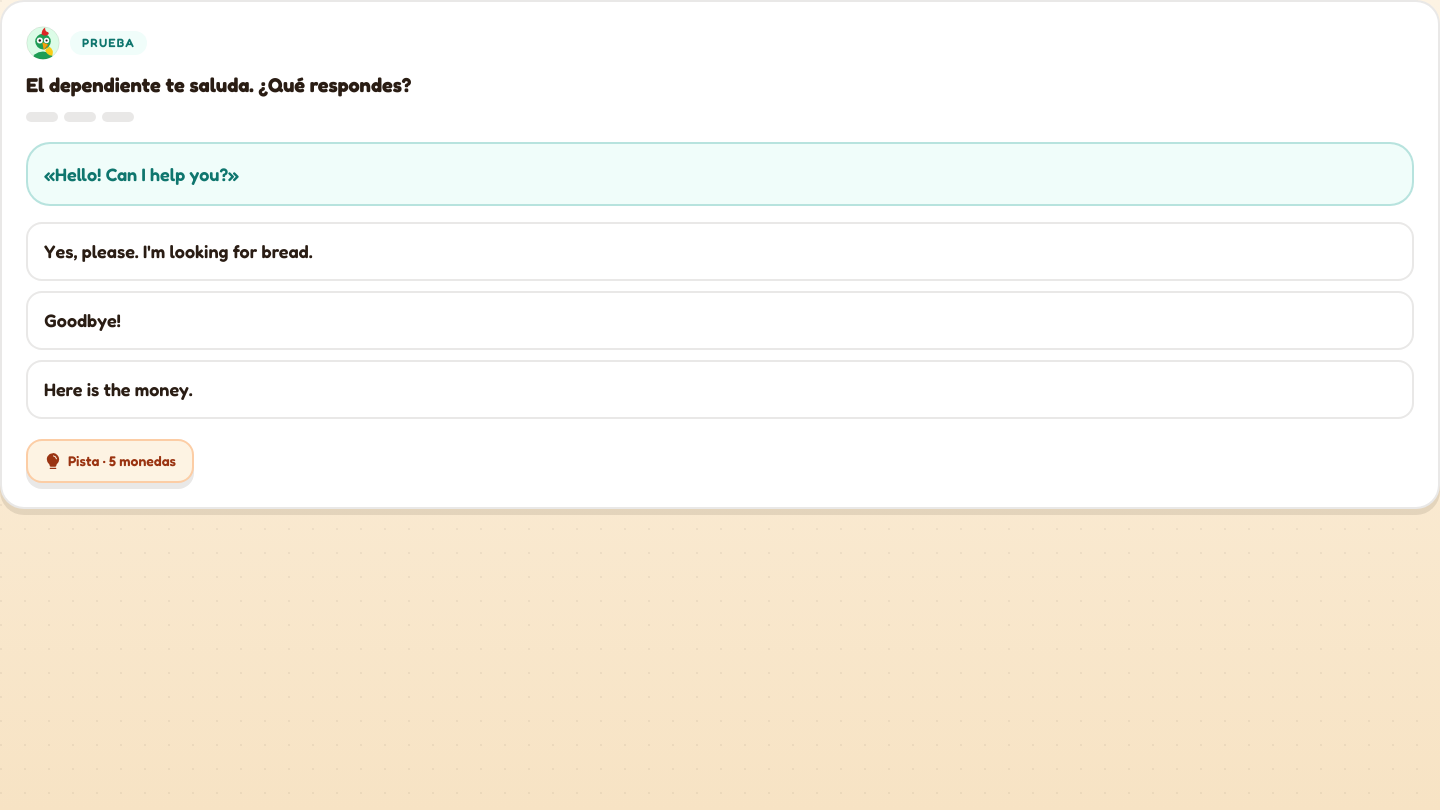
Test: DialogueChallenge › hint removes a wrong reply
The width and height of the screenshot is (1440, 810).
Step 1. Click the button "Pista · 5 monedas" → (110, 460), box [26, 438, 194, 482]
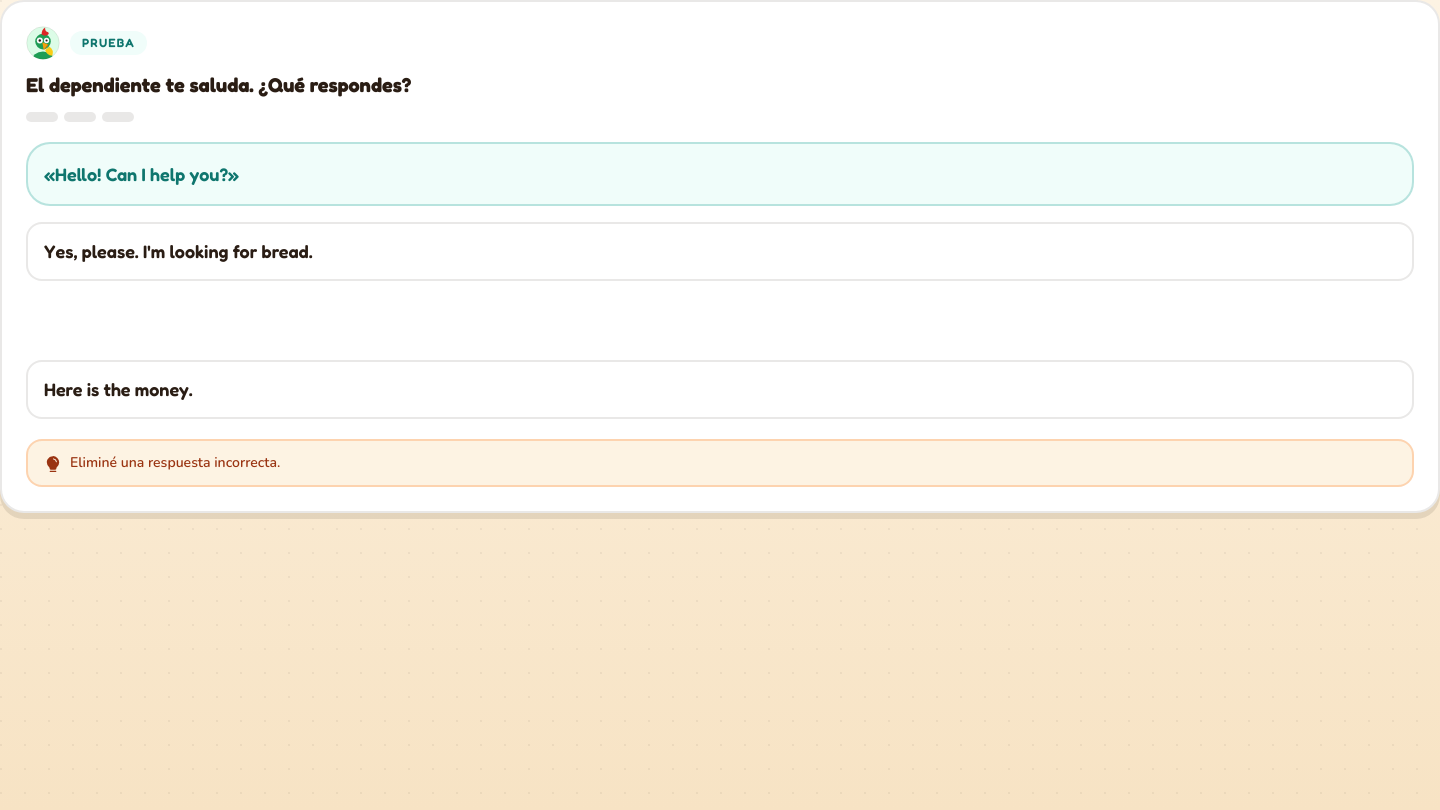
Result: the text "Eliminé una respuesta incorrecta." is shown at [26, 438, 1414, 486]
